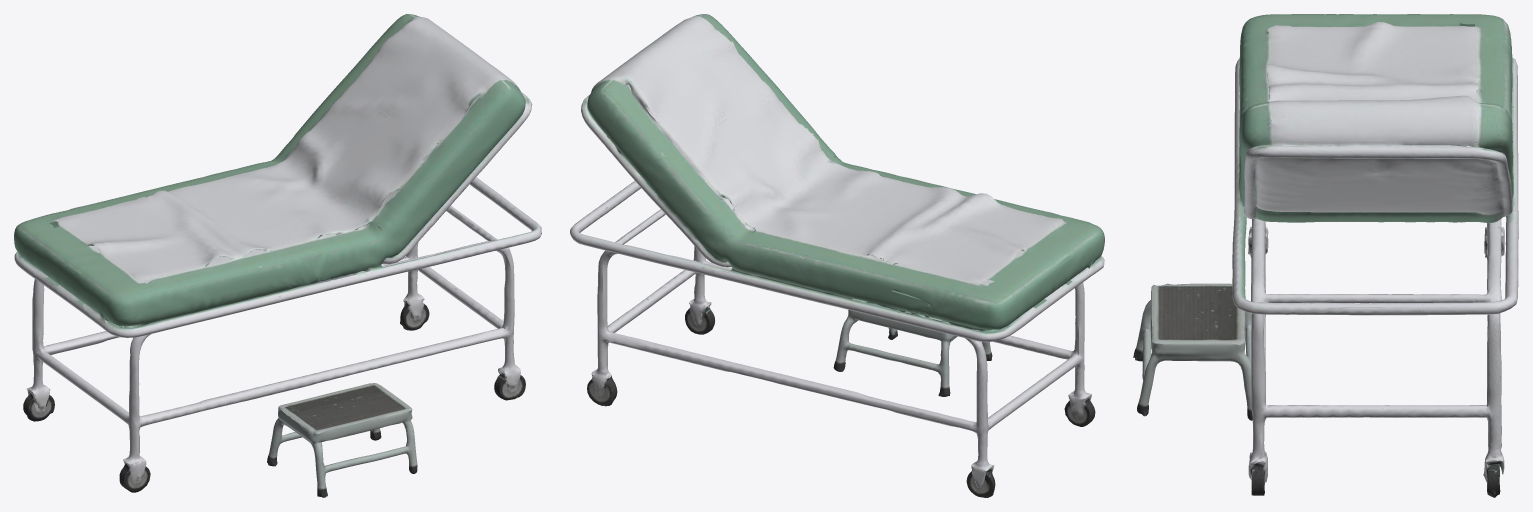
Rendered from examBed.glb.
3 renders of one model, left to right at view 1: azimuth 30°, elevation 25°; view 2: azimuth 150°, elevation 25°; view 3: azimuth 270°, elevation 25°, orthographic. The views are drawn at different scales.
Bounding box in the file's own units: 1.9 × 1.36 × 1.2.
Materials: 1 (1 with a texture image).
